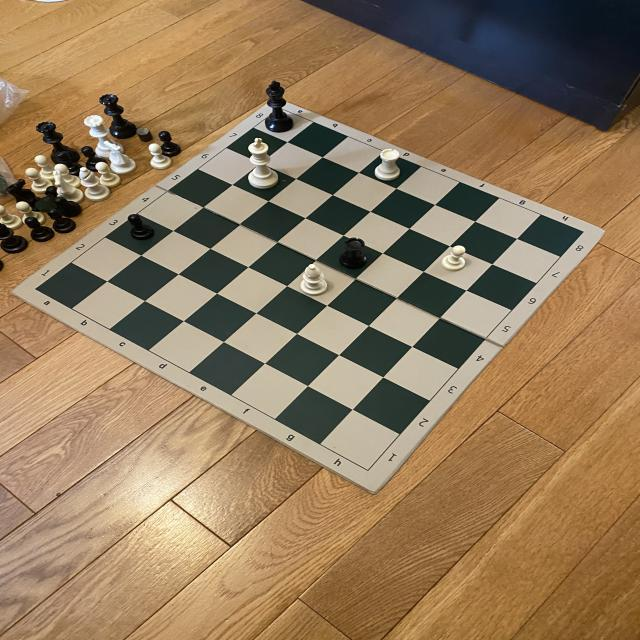chess-table-corners: (362, 464, 375, 476), (31, 286, 45, 294), (576, 228, 587, 235)
